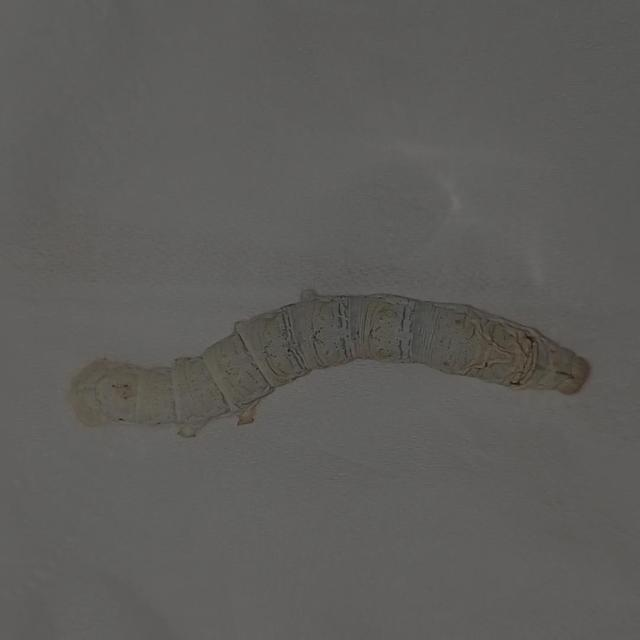Healthy: (65, 281, 596, 459)
